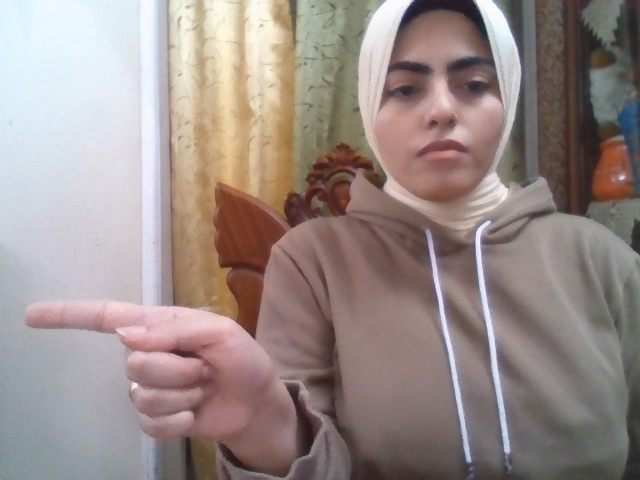G: (24, 301, 274, 441)
